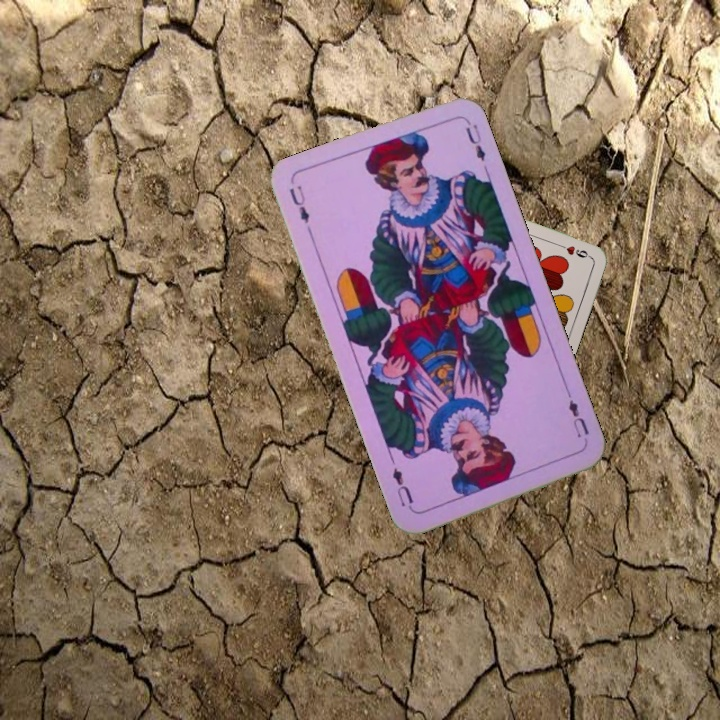EU: (564, 395, 592, 441), (285, 181, 312, 226)
H9: (554, 240, 594, 261)
